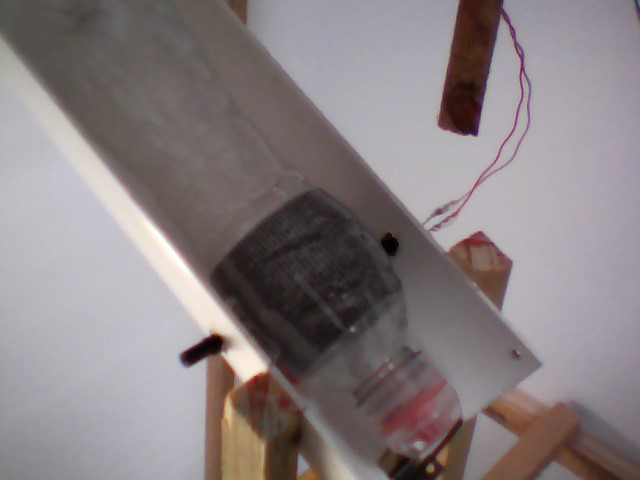plastico: (26, 1, 469, 459)
